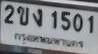letters: (17, 6, 29, 26), (4, 4, 14, 24), (61, 11, 71, 31), (73, 14, 83, 32), (32, 9, 42, 26), (87, 15, 94, 33), (51, 11, 57, 29)
province: (14, 33, 84, 49)
